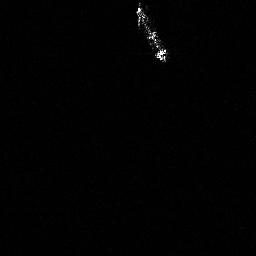ship: (133, 3, 172, 65)
